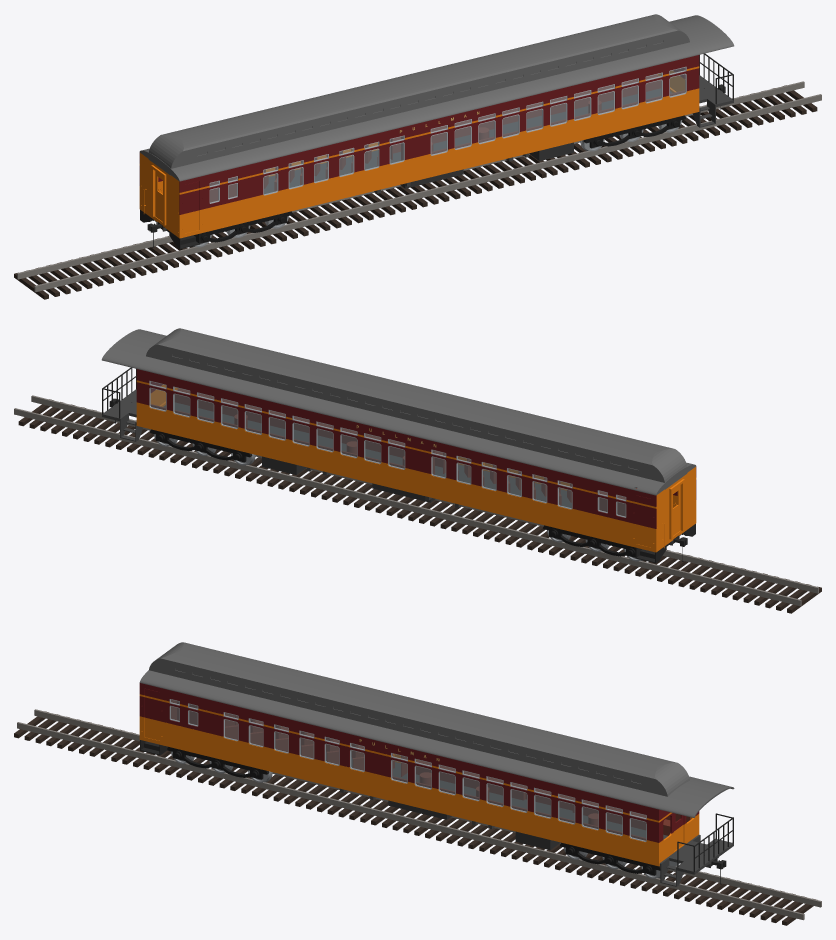
Rendered from MR1927_Observation_G.glb.
The picture shows the model from 3 angles, top to bottom: view 1: azimuth 30°, elevation 25°; view 2: azimuth 150°, elevation 25°; view 3: azimuth 330°, elevation 25°; orthographic projection.
Parts seen in each view (by area): view 1: roof, orange, maroon, ties, rails, glass, interior, rims, floor, trucks, equipment, railing (+1 smaller); view 2: roof, orange, maroon, ties, rails, glass, interior, rims, floor, trucks, equipment, railing (+1 smaller); view 3: roof, orange, maroon, ties, rails, glass, interior, rims, floor, trucks, equipment, railing (+1 smaller).
Boxes of the visible parts, <box> form: roof: <box>139,14,734,181</box>; orange: <box>139,66,699,238</box>; maroon: <box>139,55,699,214</box>; ties: <box>14,85,817,299</box>; rails: <box>17,81,821,292</box>; glass: <box>210,67,685,202</box>; interior: <box>210,74,685,202</box>; rims: <box>209,66,686,203</box>; floor: <box>155,75,733,231</box>; trucks: <box>200,115,685,243</box>; equipment: <box>400,142,573,188</box>; railing: <box>699,53,733,104</box>; roof: <box>101,328,695,495</box>; orange: <box>136,380,696,552</box>; maroon: <box>136,369,696,528</box>; ties: <box>18,399,821,613</box>; rails: <box>14,395,818,606</box>; glass: <box>150,381,625,516</box>; interior: <box>150,388,636,516</box>; rims: <box>149,380,626,517</box>; floor: <box>102,389,680,545</box>; trucks: <box>150,429,635,557</box>; equipment: <box>262,456,435,502</box>; railing: <box>102,367,136,418</box>; roof: <box>139,642,734,817</box>; orange: <box>139,694,699,866</box>; maroon: <box>139,683,699,842</box>; ties: <box>14,711,815,925</box>; rails: <box>17,709,821,920</box>; glass: <box>170,699,646,840</box>; interior: <box>171,699,690,840</box>; rims: <box>169,699,646,841</box>; floor: <box>300,746,733,886</box>; trucks: <box>167,747,660,875</box>; equipment: <box>388,800,560,850</box>; railing: <box>677,813,733,871</box>.
Size of the model in its own units: 1.18 by 0.1609 by 0.1045.
